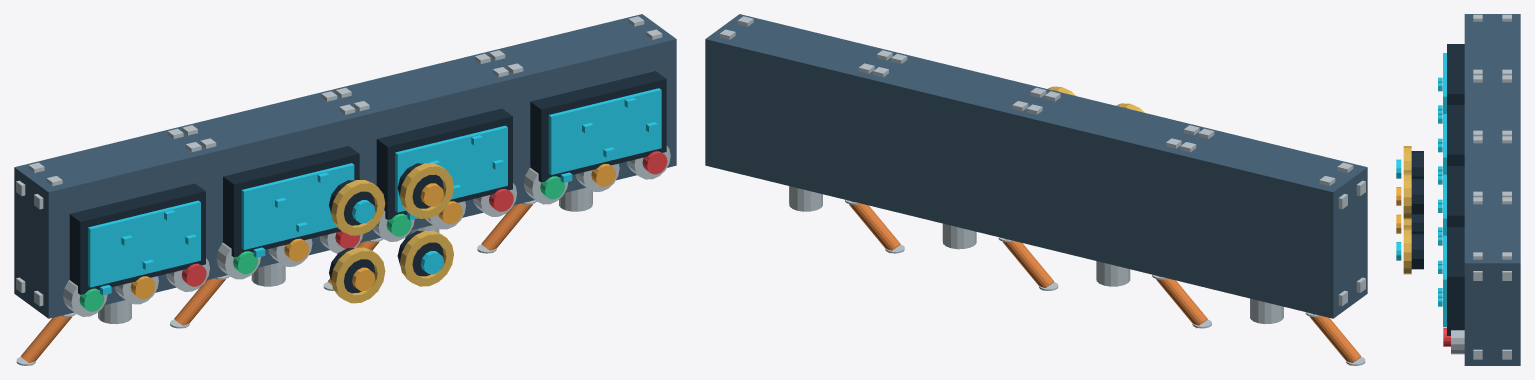
The model's file is 39_L83_BatteryThermalSensorGrid.fbx.
3 renders of one model, left to right at view 1: azimuth 30°, elevation 25°; view 2: azimuth 150°, elevation 25°; view 3: azimuth 270°, elevation 25°, orthographic. The views are drawn at different scales.
Parts seen in each view (by area): view 1: BatteryThermalSensorGrid; view 2: BatteryThermalSensorGrid; view 3: BatteryThermalSensorGrid.
Part boxes in pixels (x1,y1,x2,y2): BatteryThermalSensorGrid: (14, 14, 676, 365); BatteryThermalSensorGrid: (705, 14, 1367, 365); BatteryThermalSensorGrid: (1396, 14, 1520, 365).
Bounding box in the file's own units: 160 × 44.63 × 32.69.
